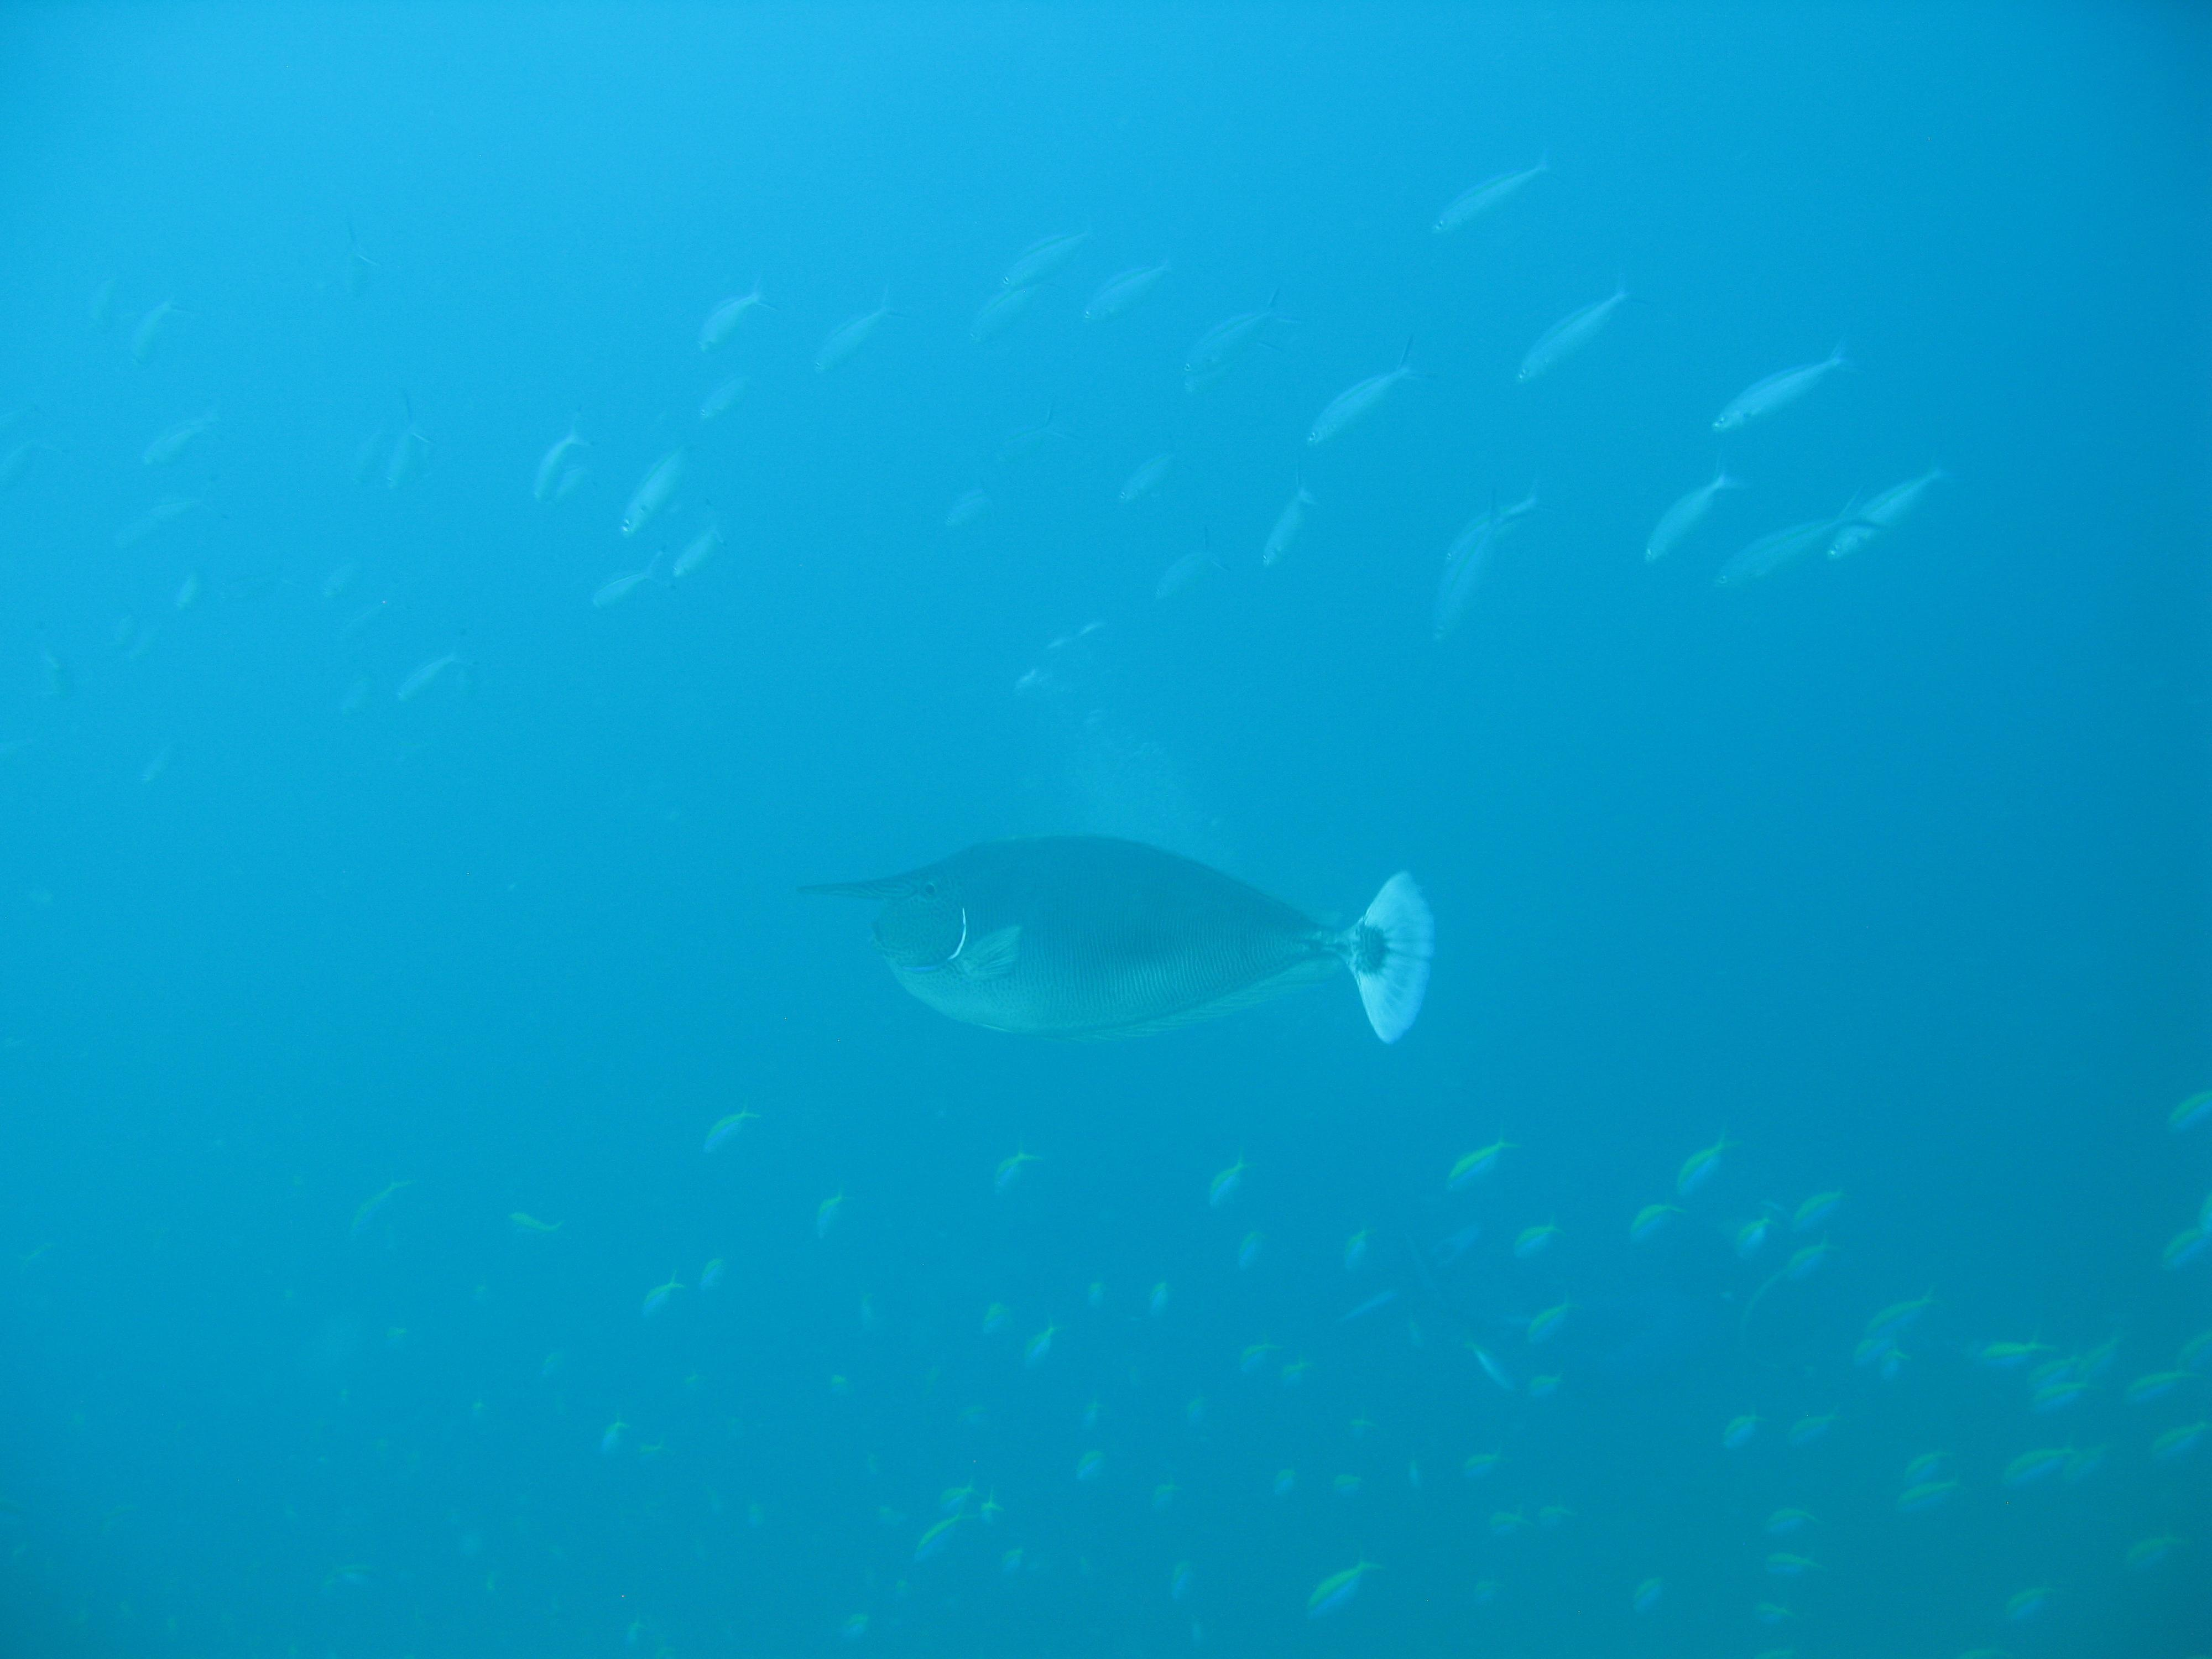Naso brevicordatus: (735, 774, 1458, 1107)
